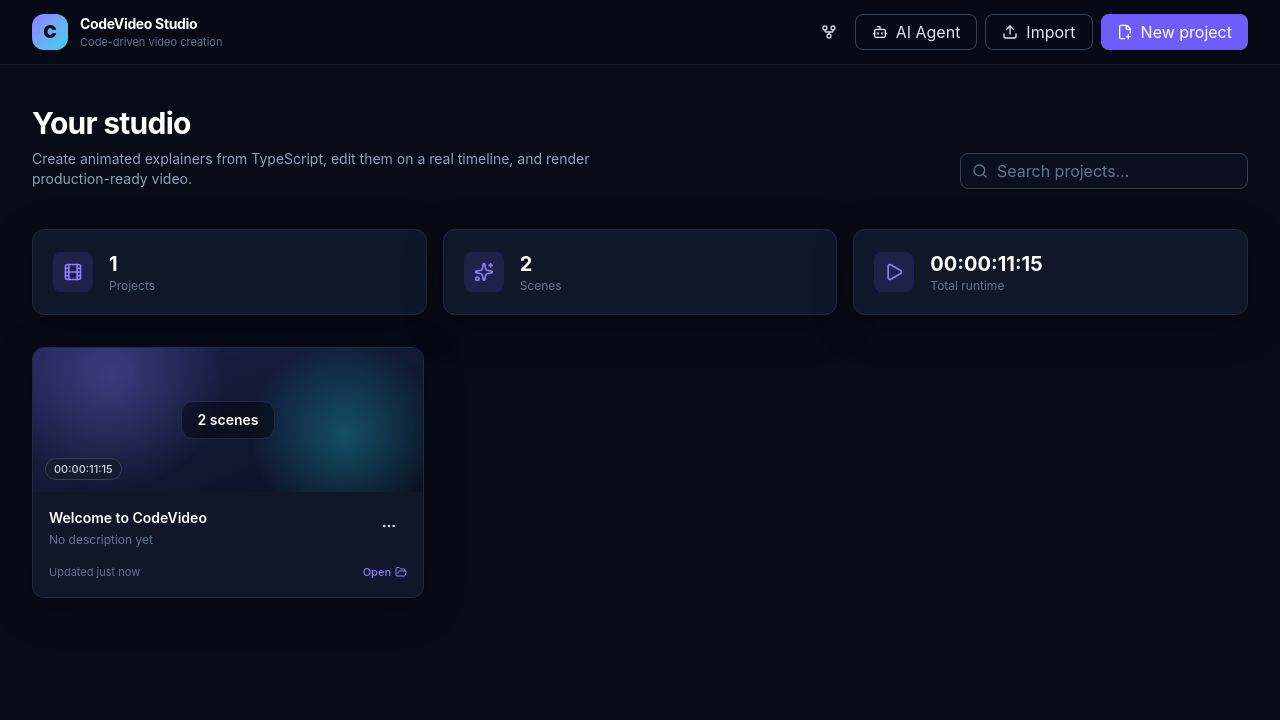
Test: CodeVideo Studio › filters projects by search
This screenshot has width=1280, height=720.
Type "welcome" into the field labelled "Search projects".
click(1104, 171); type("welcome")  # box [960,153,1248,189]
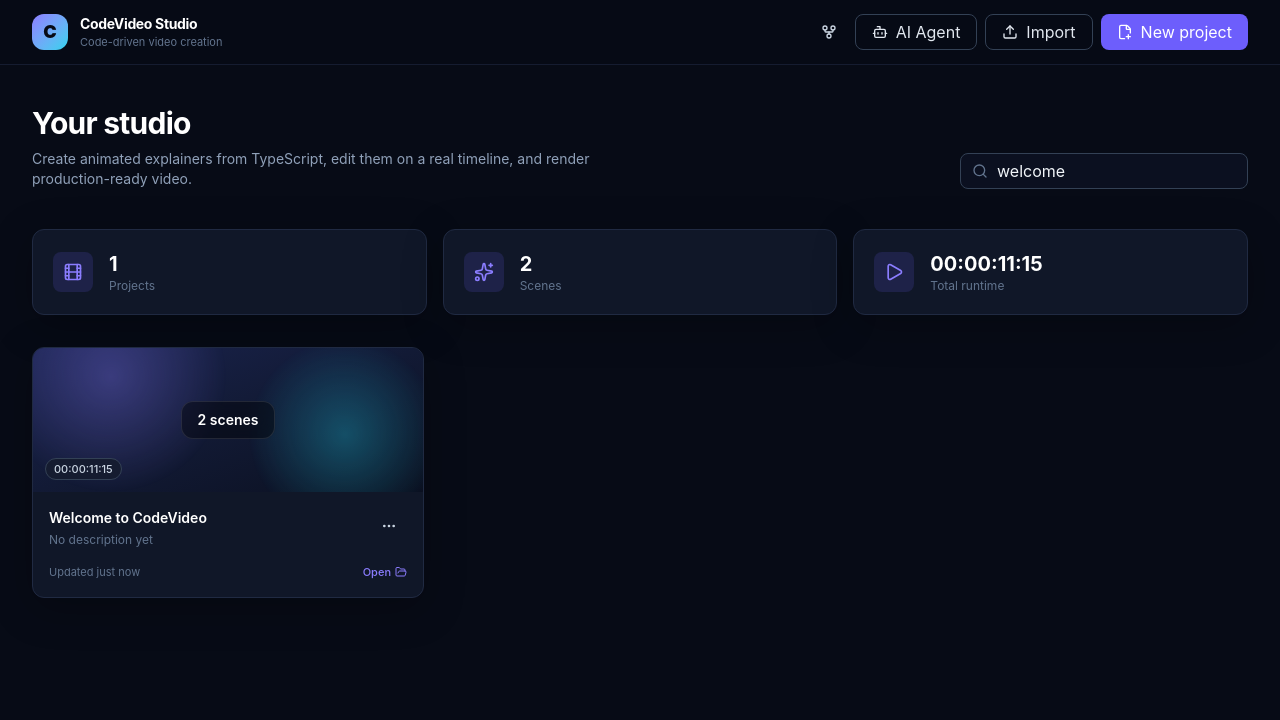
Check: the heading "Welcome to CodeVideo" is shown, box [49,508,207,528]
Replace the text in the field named "Search projects" with "nothing matches" at [1104, 171], box [960,153,1248,189]
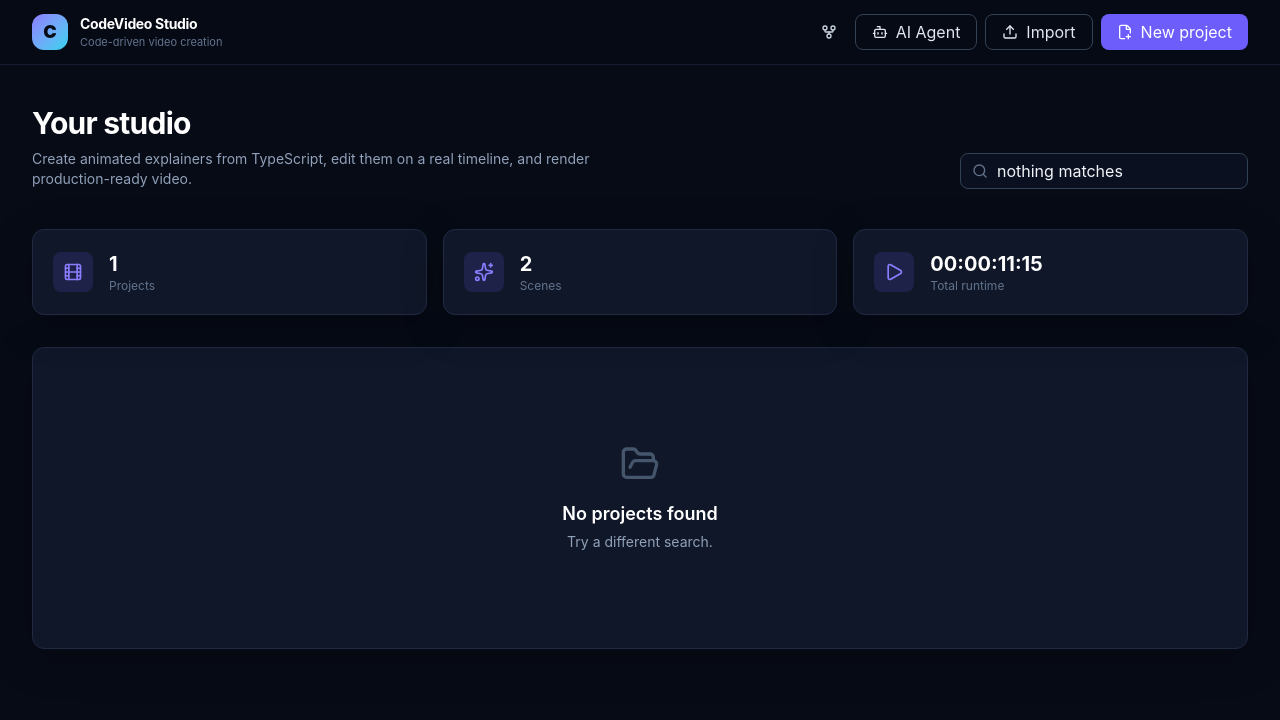
Check: the link "Welcome to CodeVideo" is gone
Check: the heading "No projects found" is shown, box [562,500,718,528]
